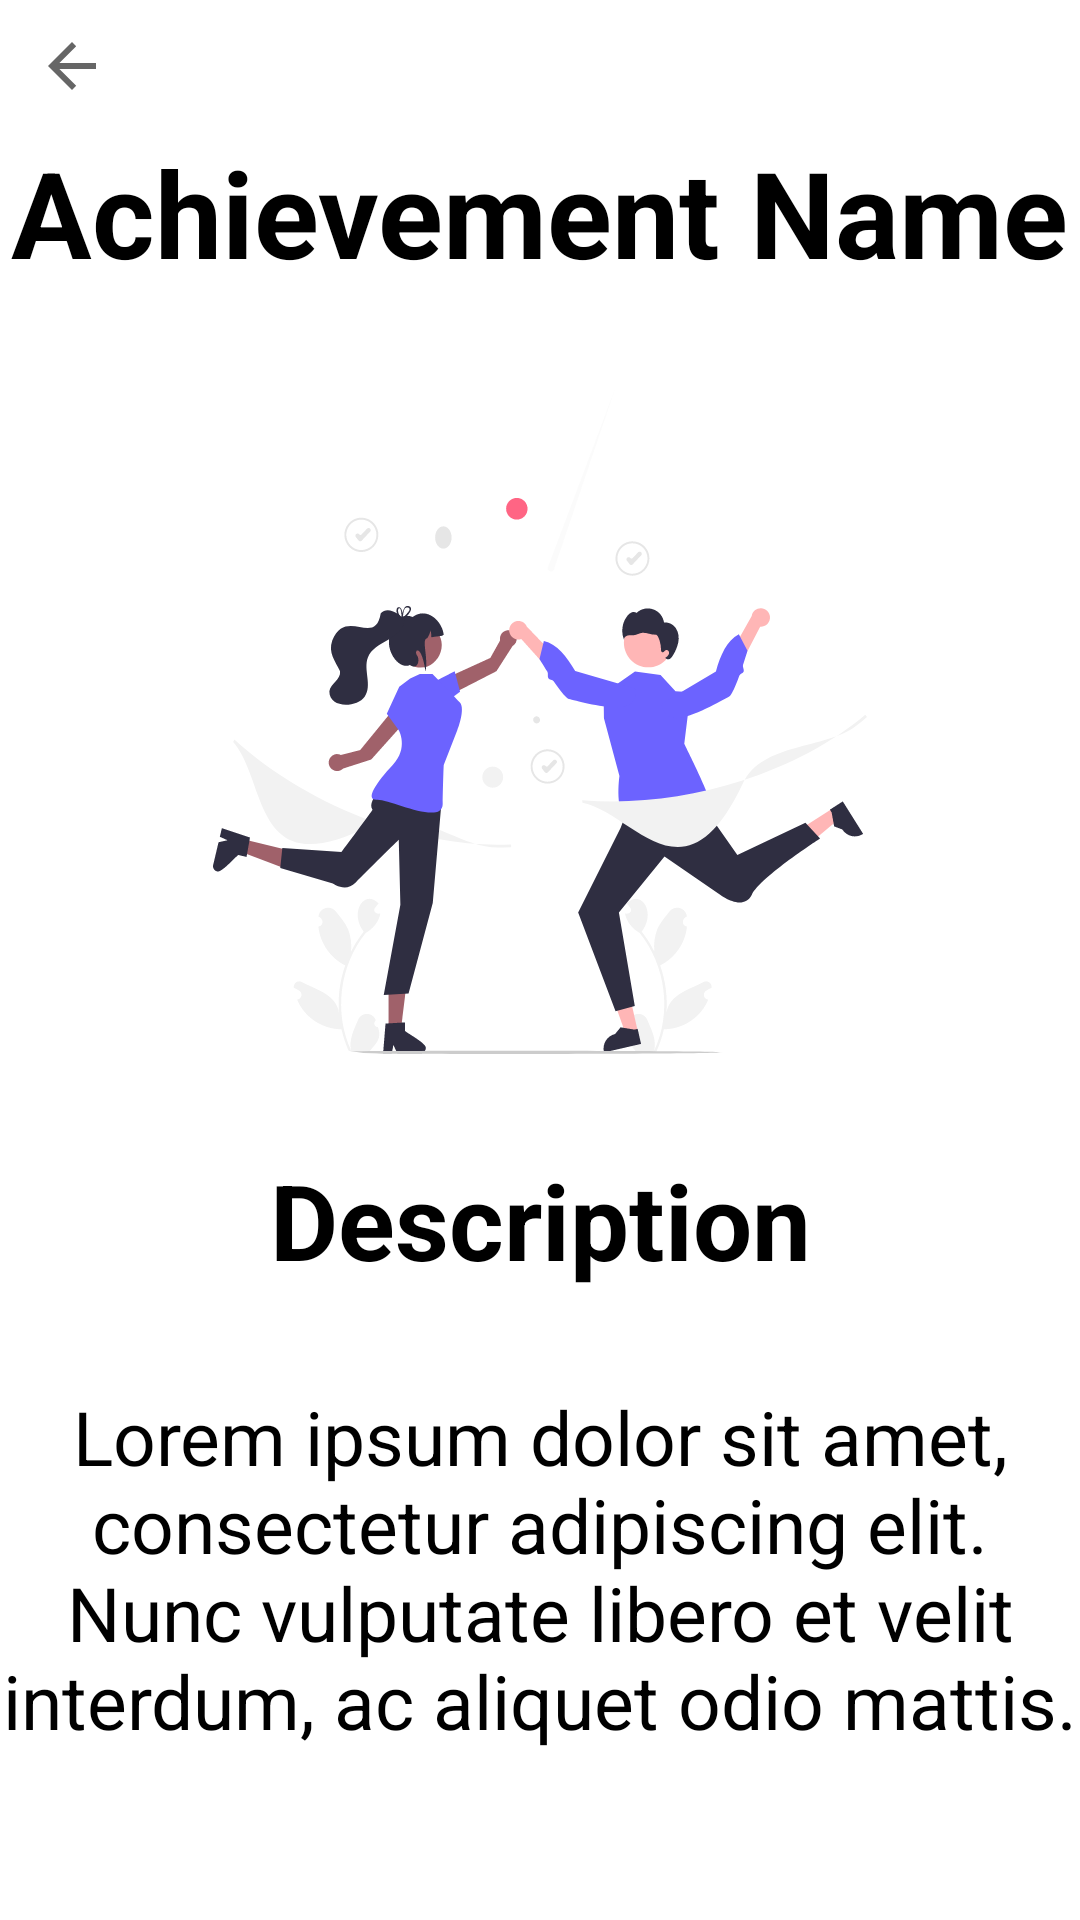

Screen size 1080w x 1920h. Icon name, then its box in pixels as {"left": x1, "top": y1, "right": x2, "bottom": y2}:
Back button: {"left": 48, "top": 42, "right": 96, "bottom": 90}
